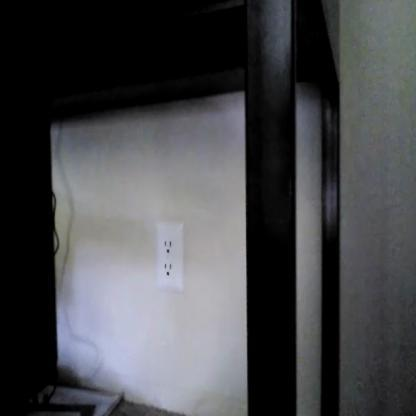OUTLET: (156, 222, 182, 289)
